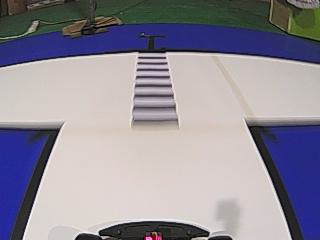CrossWalk: (121, 48, 187, 134)
